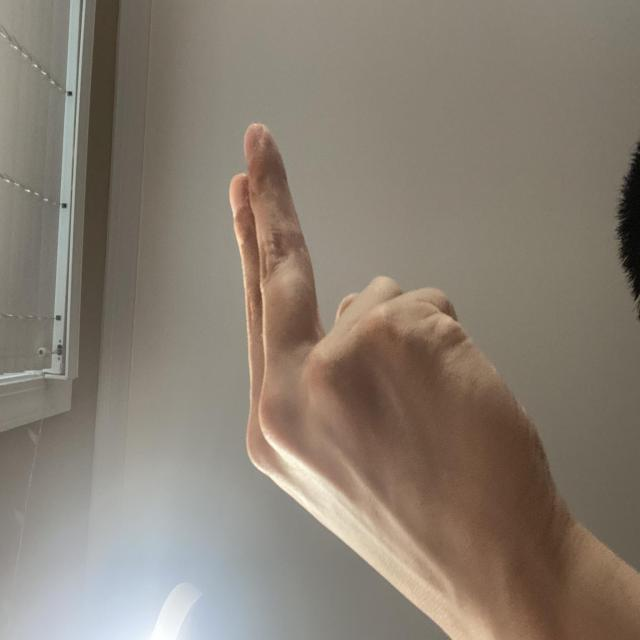H: (0, 289, 393, 640)
